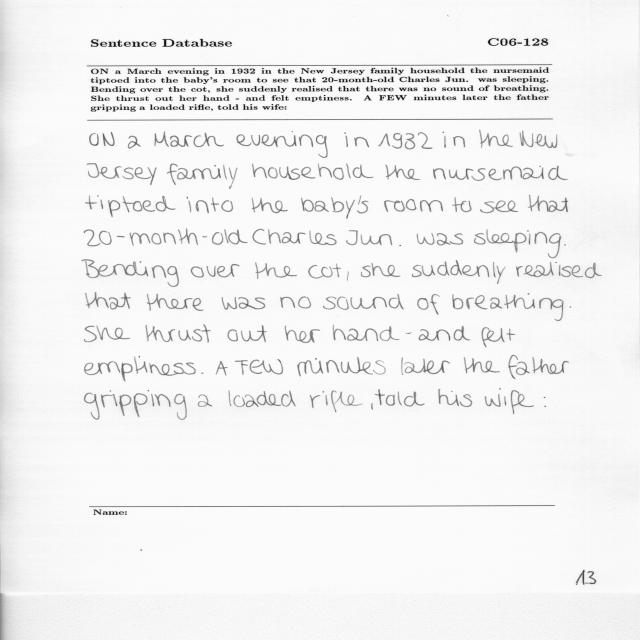word: (452, 293, 564, 321), (84, 390, 187, 420), (84, 229, 248, 246), (85, 356, 196, 381), (82, 259, 179, 287), (474, 230, 562, 259), (236, 131, 328, 158), (412, 260, 506, 284), (252, 163, 373, 180), (433, 166, 568, 181), (86, 195, 176, 217), (167, 164, 237, 189), (297, 357, 386, 376), (301, 195, 368, 219), (87, 164, 157, 185), (508, 355, 569, 379), (516, 262, 602, 278), (253, 229, 337, 245), (323, 294, 403, 310), (484, 389, 534, 414), (146, 325, 211, 343), (310, 391, 363, 413), (229, 391, 296, 408), (154, 132, 224, 148), (333, 325, 400, 341), (379, 132, 433, 150), (147, 294, 204, 311), (346, 230, 401, 246), (375, 390, 425, 407), (401, 358, 450, 375), (187, 197, 233, 214), (235, 359, 283, 375), (384, 199, 443, 212), (86, 293, 131, 310), (419, 326, 470, 341), (85, 326, 130, 342), (255, 263, 297, 280), (482, 327, 515, 348), (528, 195, 568, 212), (227, 325, 267, 342), (191, 264, 240, 277), (520, 131, 557, 148), (479, 130, 513, 148), (438, 389, 472, 407), (417, 233, 463, 246), (285, 326, 320, 343), (464, 358, 500, 374), (222, 297, 266, 310), (385, 164, 420, 180), (361, 263, 401, 277), (252, 198, 288, 213), (308, 264, 341, 279), (480, 201, 518, 214), (417, 294, 440, 315), (344, 133, 369, 148), (281, 297, 312, 309), (443, 132, 465, 148), (90, 132, 115, 146), (452, 197, 472, 212), (198, 394, 212, 407), (216, 361, 228, 376), (128, 136, 141, 149), (347, 271, 349, 281), (544, 397, 546, 407), (371, 403, 373, 410), (406, 332, 412, 334), (564, 244, 566, 246), (201, 372, 203, 374), (570, 306, 571, 308)
